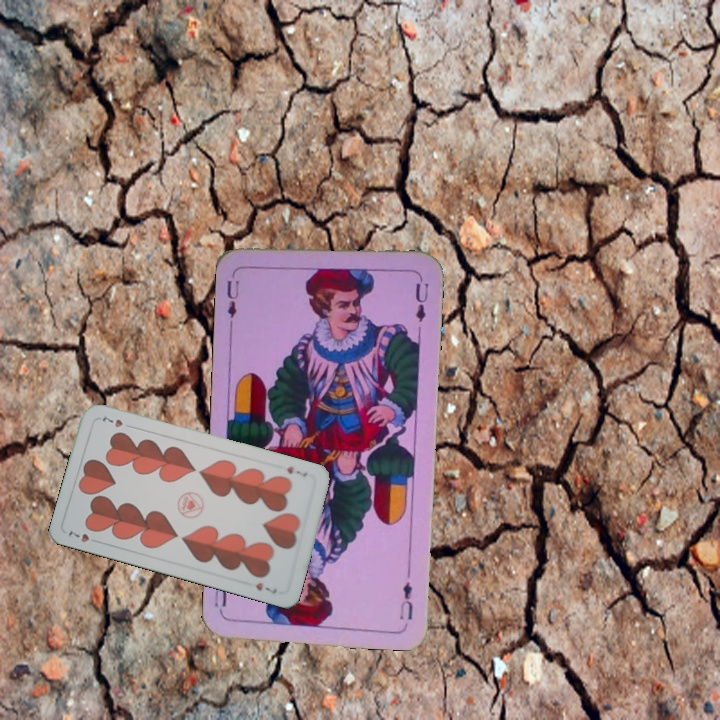EU: (223, 268, 242, 327), (396, 578, 415, 622)
H7: (64, 527, 103, 546), (283, 462, 310, 480)
